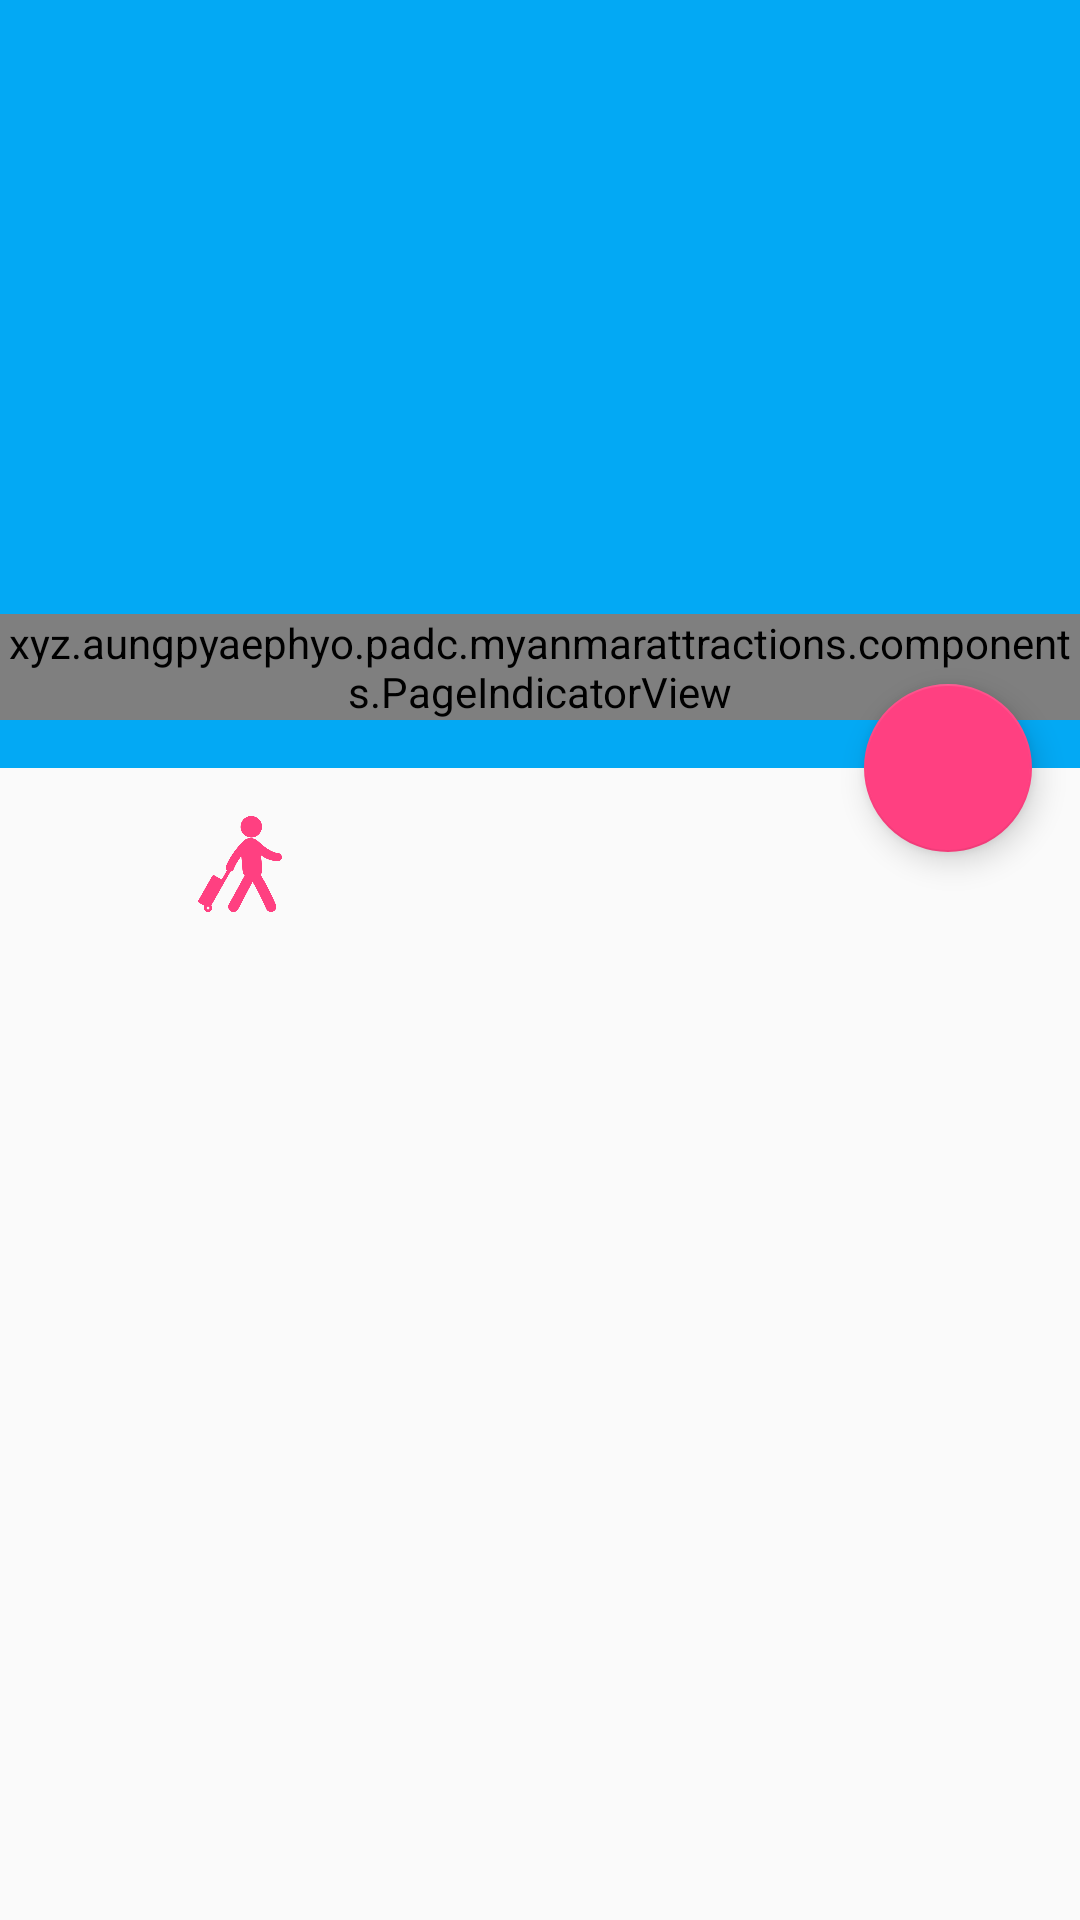

Icons on this 1080 x 1920 Android screen, each with the point to tap as (x=x, y=y):
book for the trip: (x=240, y=864)
